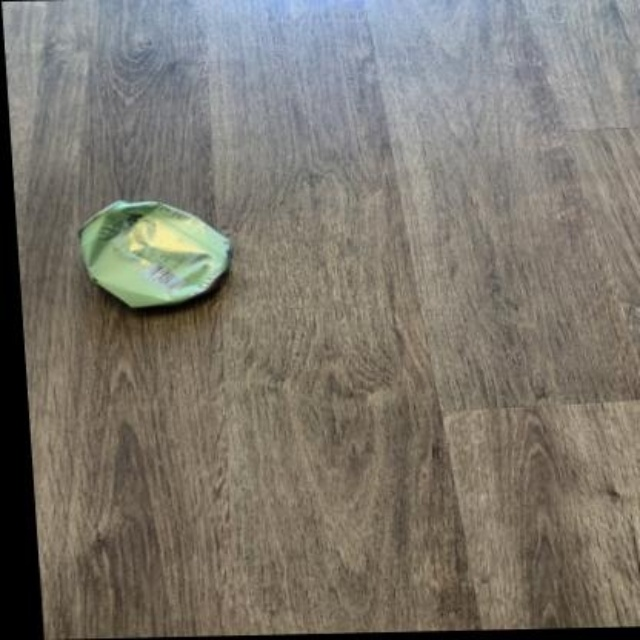trash: (80, 200, 229, 306)
